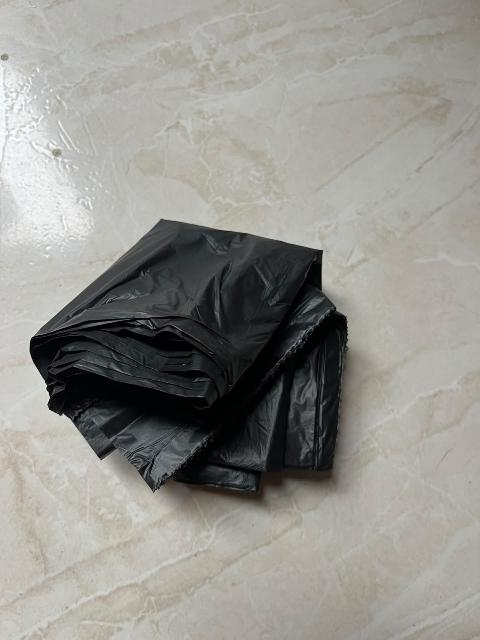LDPE: (31, 200, 357, 510)
